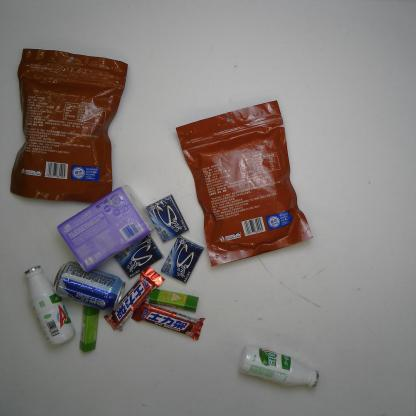Alcohol: (52, 260, 127, 312)
Chocolate: (102, 266, 166, 333), (130, 300, 206, 342)
Dried Food: (173, 98, 317, 268), (9, 47, 129, 204)
Gum: (159, 234, 204, 284), (145, 193, 189, 243), (112, 234, 164, 276)
Milk: (24, 262, 76, 348), (236, 344, 320, 389)
Stationery: (148, 288, 199, 313), (79, 304, 100, 352)
Tissue: (55, 184, 156, 274)
